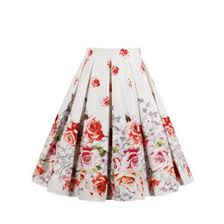C_skirt: (28, 46, 194, 205)
